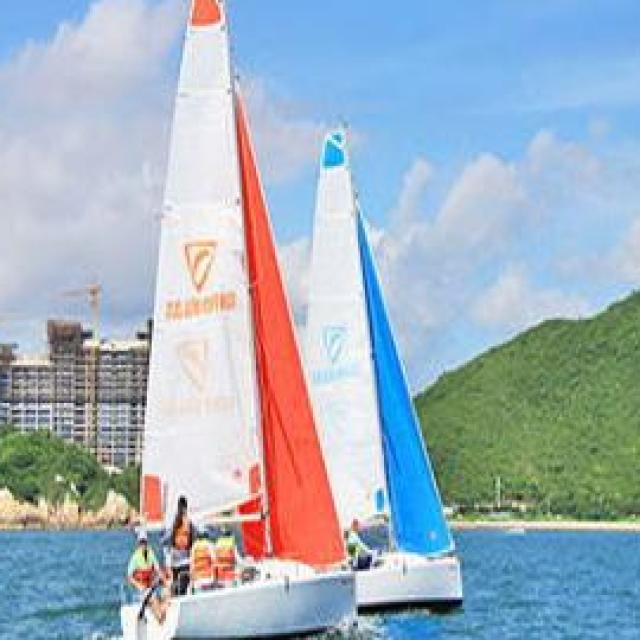sailboat: (116, 0, 346, 640), (298, 116, 470, 604)
